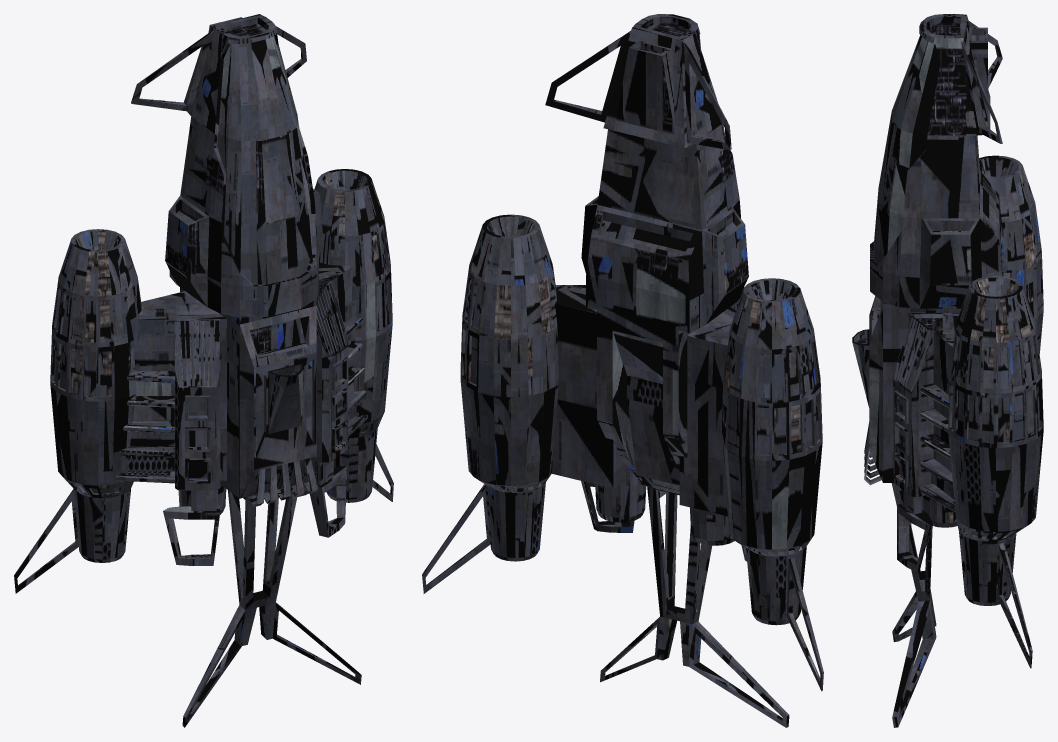
Rendered from kanara_interceptor.obj.
3 renders of one model, left to right at view 1: azimuth 30°, elevation 25°; view 2: azimuth 150°, elevation 25°; view 3: azimuth 270°, elevation 25°, orthographic. The views are drawn at different scales.
Visible parts, largest first — view 1: shiphull; view 2: shiphull; view 3: shiphull.
Boxes of the visible parts, <box> form: shiphull: <box>14,14,393,727</box>; shiphull: <box>422,14,823,727</box>; shiphull: <box>852,14,1043,727</box>.
Bounding box in the file's own units: 126 × 209 × 55.06.
